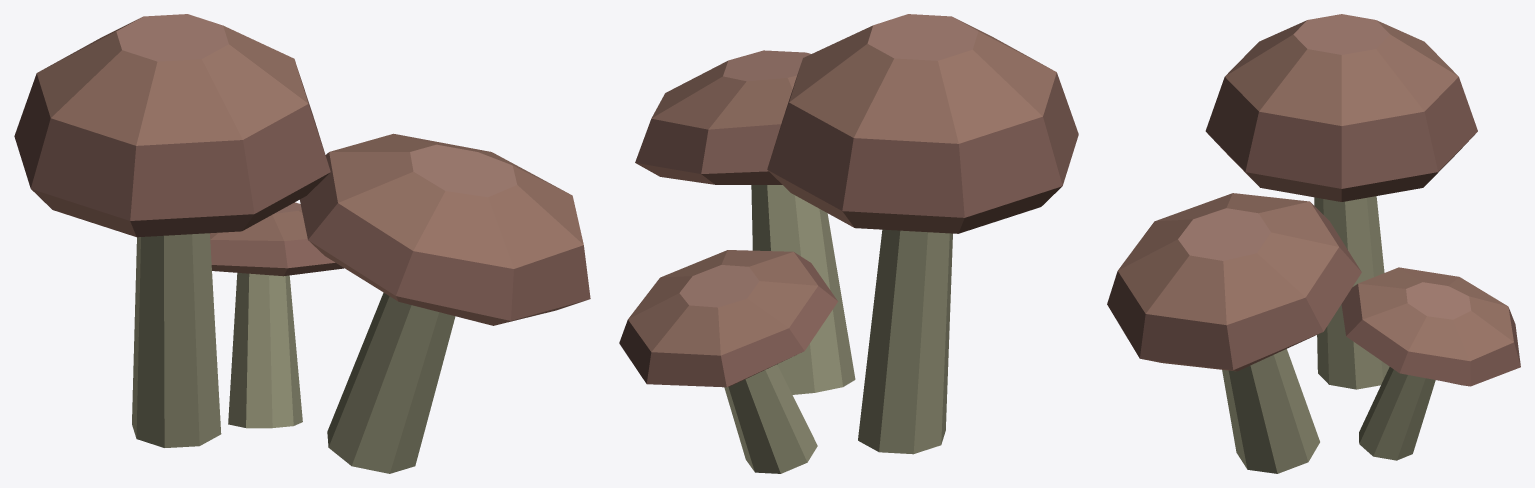
The model's file is SF_Env_Mushroom_03.fbx.
3 views of the same model, side by side, from view 1: azimuth 30°, elevation 25°; view 2: azimuth 150°, elevation 25°; view 3: azimuth 270°, elevation 25° (orthographic). The views are drawn at different scales.
Parts seen in each view (by area): view 1: SF_Env_Mushroom_03; view 2: SF_Env_Mushroom_03; view 3: SF_Env_Mushroom_03.
Part boxes in pixels (x1,y1,x2,y2): SF_Env_Mushroom_03: [14, 14, 590, 473]; SF_Env_Mushroom_03: [619, 14, 1078, 473]; SF_Env_Mushroom_03: [1107, 14, 1520, 473].
Bounding box in the file's own units: 3.45 × 3.01 × 3.07.
